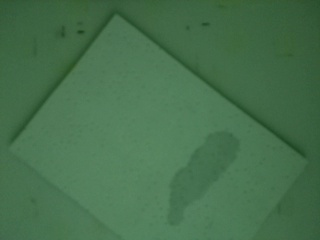Water_detected: (175, 136, 234, 210)
